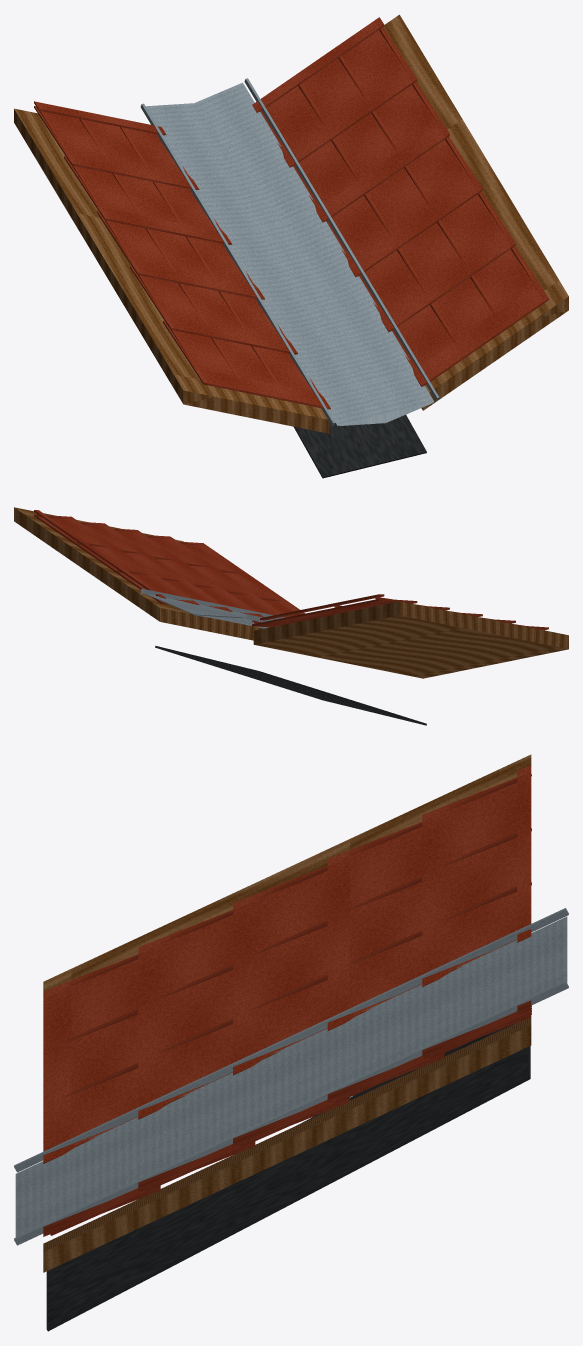
File: modell.glb
The picture shows the model from 3 angles, top to bottom: view 1: azimuth 30°, elevation 25°; view 2: azimuth 150°, elevation 25°; view 3: azimuth 270°, elevation 25°; orthographic projection. The views are drawn at different scales.
Visible parts, largest first — view 1: s06-ziegel_deckung, s06-kehlblech_zusatzebene, s06-unterlage_tragwerk, s06-zusatzebene_zusatzebene, s06-kehlblech_deckung; view 2: s06-unterlage_tragwerk, s06-ziegel_deckung, s06-zusatzebene_zusatzebene, s06-kehlblech_zusatzebene, s06-kehlblech_deckung; view 3: s06-ziegel_deckung, s06-kehlblech_zusatzebene, s06-zusatzebene_zusatzebene, s06-unterlage_tragwerk, s06-kehlblech_deckung.
Part boxes in pixels (box(x1,y1,x2,y2)): s06-ziegel_deckung: box(34, 17, 548, 409); s06-kehlblech_zusatzebene: box(146, 82, 434, 426); s06-unterlage_tragwerk: box(14, 14, 568, 433); s06-zusatzebene_zusatzebene: box(294, 414, 426, 478); s06-kehlblech_deckung: box(140, 78, 439, 426); s06-unterlage_tragwerk: box(14, 507, 568, 678); s06-ziegel_deckung: box(34, 510, 548, 630); s06-zusatzebene_zusatzebene: box(155, 645, 426, 725); s06-kehlblech_zusatzebene: box(145, 594, 269, 628); s06-kehlblech_deckung: box(140, 588, 284, 622); s06-ziegel_deckung: box(43, 765, 531, 1236); s06-kehlblech_zusatzebene: box(15, 916, 567, 1237); s06-zusatzebene_zusatzebene: box(46, 1023, 530, 1331); s06-unterlage_tragwerk: box(43, 754, 531, 1272); s06-kehlblech_deckung: box(14, 908, 568, 1245).
Size of the model in its own units: 2.3 by 1.62 by 1.99.
4 materials, 4 textured.
